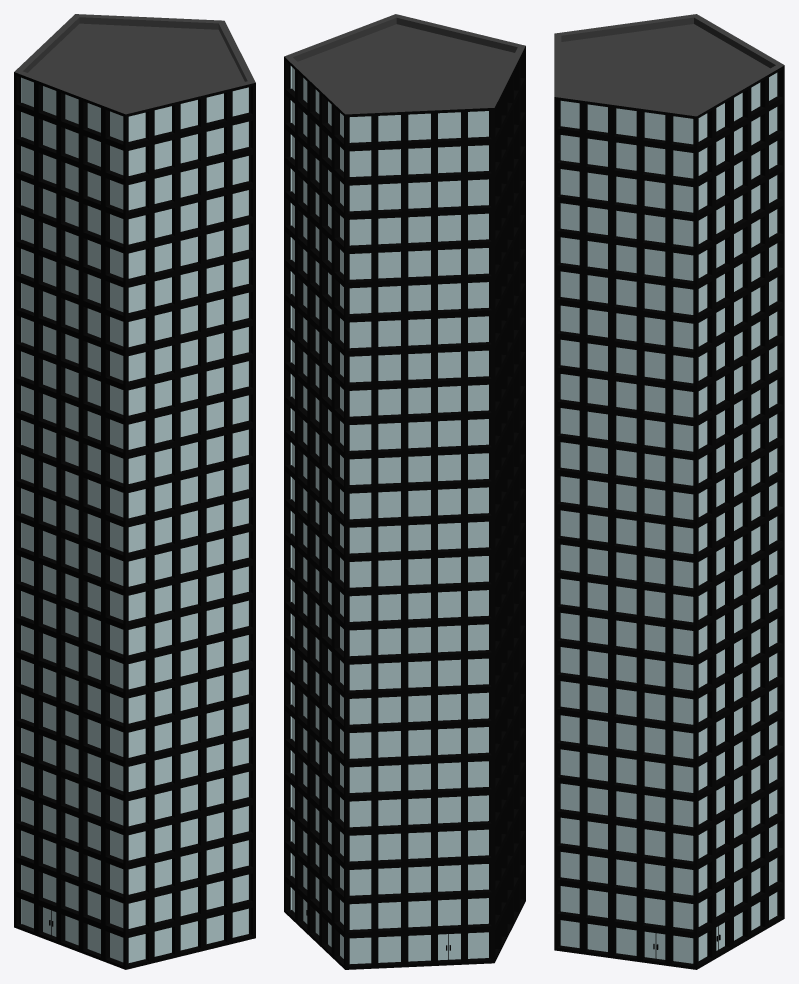
Rendered from Building6.glb.
3 views of the same model, side by side, from view 1: azimuth 30°, elevation 25°; view 2: azimuth 150°, elevation 25°; view 3: azimuth 270°, elevation 25° (orthographic).
Parts seen in each view (by area): view 1: Cube.006; view 2: Cube.006; view 3: Cube.006.
Boxes of the visible parts, x1=… form: Cube.006: x1=14, y1=14, x2=255, y2=969; Cube.006: x1=284, y1=14, x2=525, y2=969; Cube.006: x1=554, y1=14, x2=784, y2=969.
Bounding box in the file's own units: 3.8 × 14.77 × 3.62.
